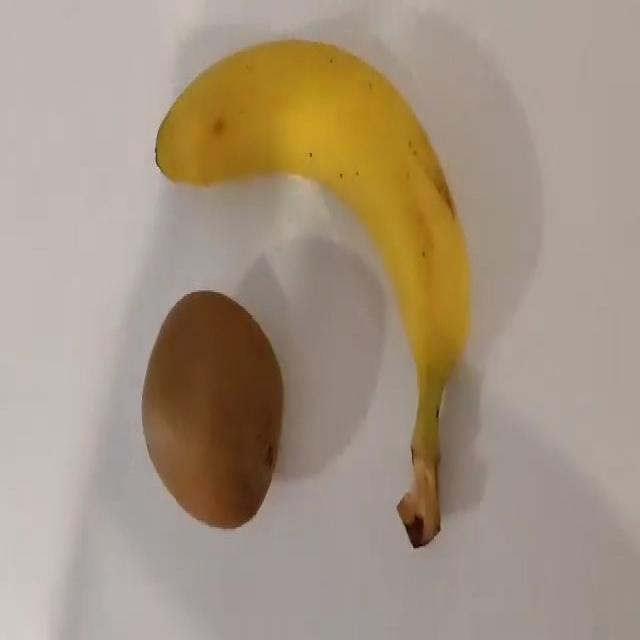Banana: (150, 38, 468, 487)
